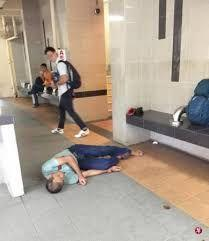Fall-Detected: (37, 137, 144, 195)
